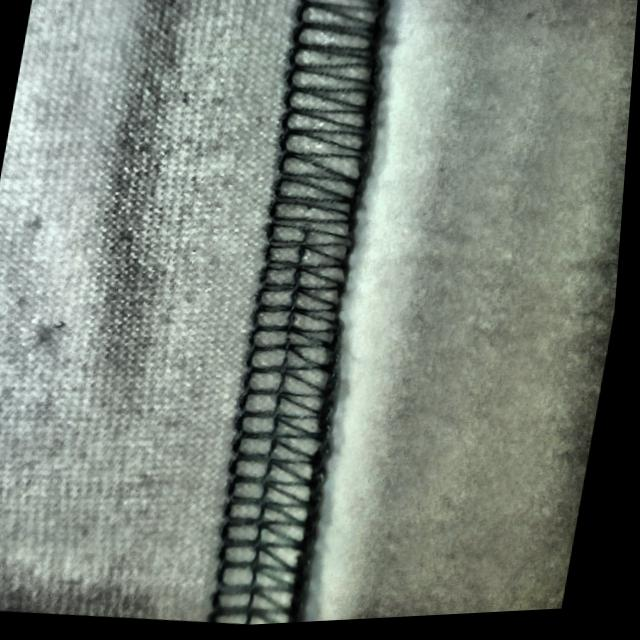Stitch: (221, 3, 405, 473)
